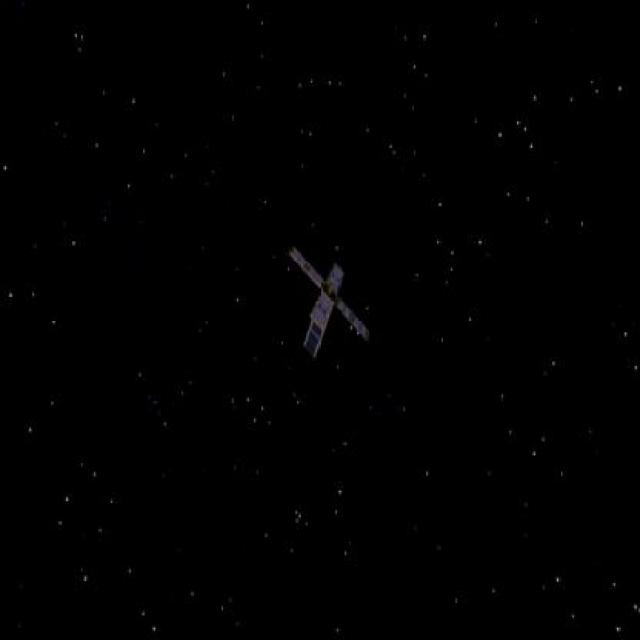medium_debris: (285, 235, 369, 377)
